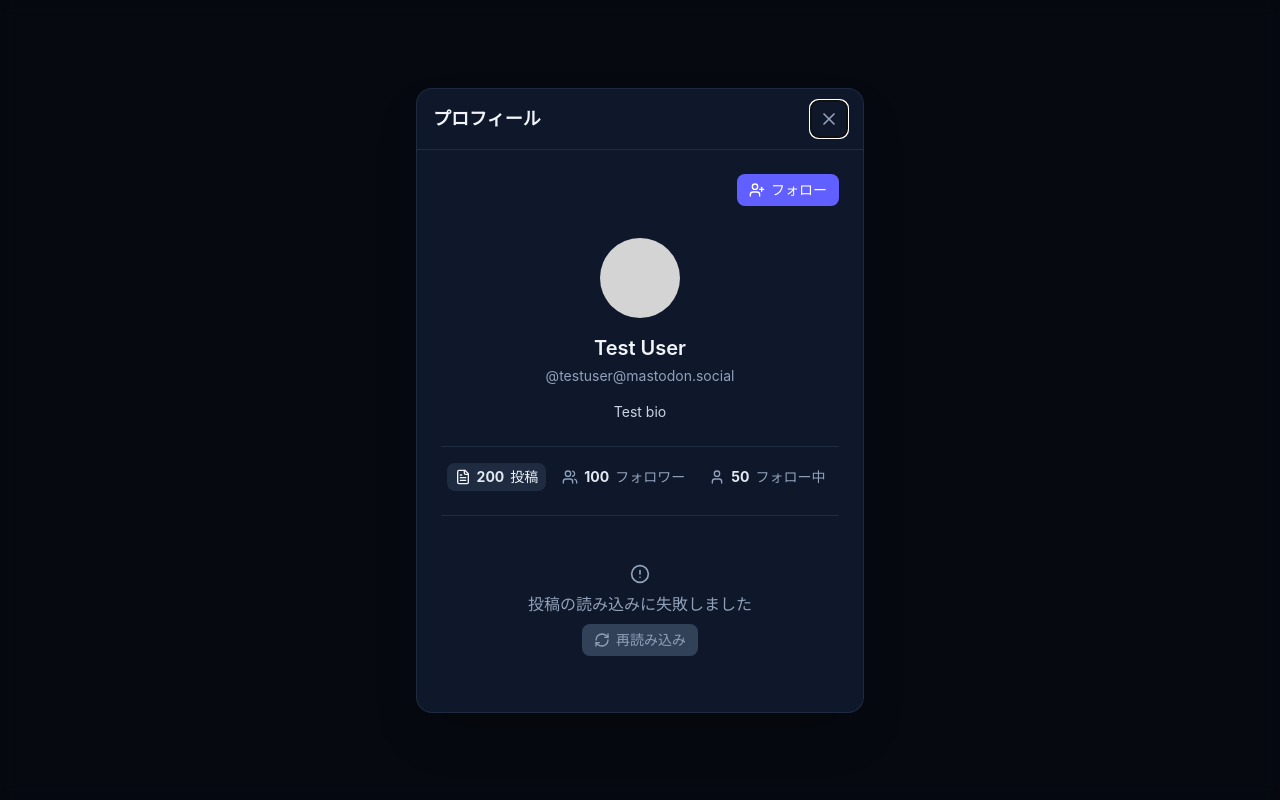
Test: ProfileModal › Post list › retries fetch when reload button is clicked after error
The width and height of the screenshot is (1280, 800).
Expected: the text "投稿の読み込みに失敗しました" is shown, [528,592,752,616]
Note: Click reload button
Click the button "再読み込み" at (640, 640), box [582,624,698,656]
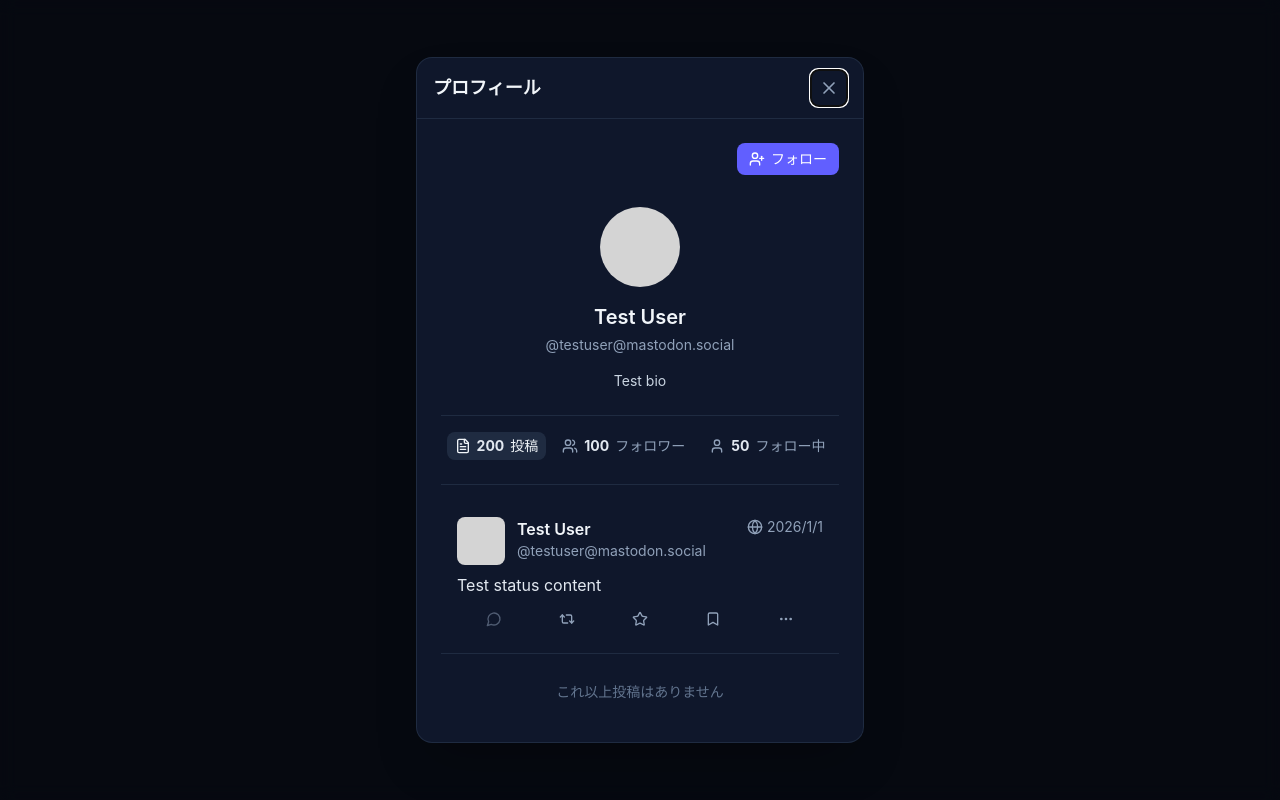
Result: the text "Test status content" is shown at [457,575,601,595]
